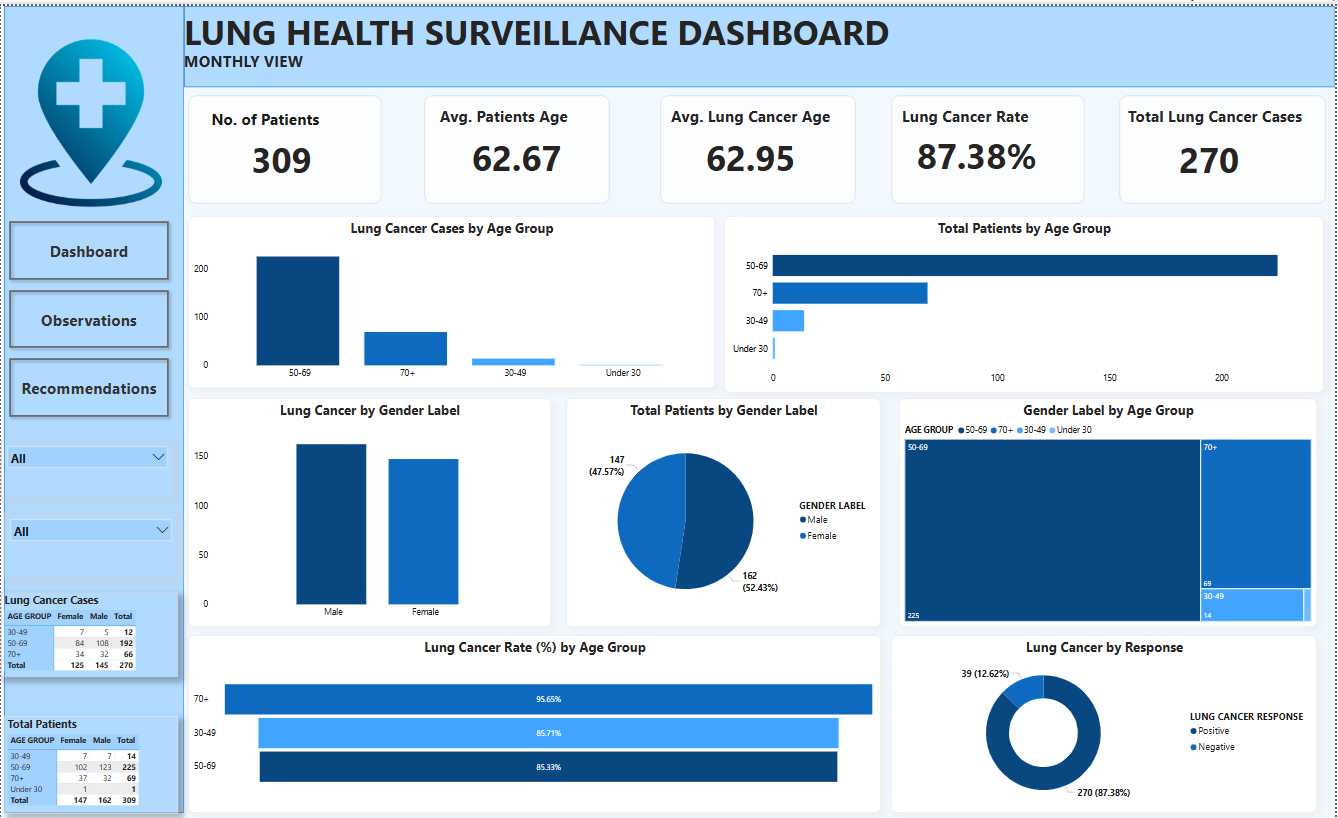

The page's visual inventory and layout, read from the dashboard file:
{"tool":"powerbi","page":{"name":"Main Board","canvas":[2300,1400],"ordinal":0},"visuals":[{"type":"shape","box":[5.2,0,310.3,1391.4],"z":0},{"type":"shape","box":[322.4,153.4,334.5,187.9],"z":1000},{"type":"shape","box":[315,0,1985,140],"z":2000},{"type":"textbox","box":[310.3,0,1237.9,87.9],"z":3000},{"type":"textbox","box":[310.3,70.7,346.6,53.4],"z":4000},{"type":"card","fields":{"Values":["New Measures.Total Patients"]},"box":[386.2,201.7,194.8,119],"z":5000},{"type":"textbox","box":[322.4,165.5,398.3,72.4],"z":6000},{"type":"shape","box":[729.3,153.4,320.7,187.9],"z":7000},{"type":"shape","box":[1136.2,153.4,337.9,187.9],"z":8000},{"type":"card","fields":{"Values":["New Measures.Average Age (Lung Cancer)"]},"box":[1150,184.5,284.5,146.6],"z":9000},{"type":"shape","box":[1927.6,153.4,356.9,187.9],"z":10000},{"type":"shape","box":[1534.5,153.4,334.5,187.9],"z":11000},{"type":"textbox","box":[729.3,165.5,346.6,53.4],"z":12000},{"type":"textbox","box":[1150,165.5,346.6,53.4],"z":13000},{"type":"textbox","box":[1548.3,165.5,346.6,53.4],"z":14000},{"type":"textbox","box":[1937.9,165.5,346.6,53.4],"z":15000},{"type":"card","fields":{"Values":["New Measures.Average Age"]},"box":[736.2,175.9,305.2,165.5],"z":16000},{"type":"card","fields":{"Values":["New Measures.Lung Cancer Rate (%)"]},"box":[1534.5,165.5,294.8,179.3],"z":17000},{"type":"card","fields":{"Values":["New Measures.Total Lung Cancer Cases"]},"box":[1937.9,186.2,289.7,150],"z":18000},{"type":"clusteredColumnChart","title":"Lung Cancer Cases by Age Group","fields":{"Category":["survey lung cancer.AGE GROUP"],"Y":["CountNonNull(survey lung cancer.LUNG CANCER RESPONSE)"]},"box":[322.4,362.1,908.6,296.6],"z":19000},{"type":"donutChart","title":"Lung Cancer by Response","fields":{"Y":["CountNonNull(survey lung cancer.LUNG CANCER RESPONSE)"],"Category":["survey lung cancer.LUNG CANCER RESPONSE"]},"box":[1534.5,1084.5,734.5,306.9],"z":20000},{"type":"clusteredColumnChart","title":"Lung Cancer by Gender Label","fields":{"Category":["survey lung cancer.GENDER LABEL"],"Y":["CountNonNull(survey lung cancer.LUNG CANCER RESPONSE)"]},"box":[322.4,675.9,625.9,394.8],"z":21000},{"type":"treemap","title":"Gender Label by Age Group","fields":{"Group":["survey lung cancer.AGE GROUP"],"Values":["CountNonNull(survey lung cancer.GENDER LABEL)"]},"box":[1548.3,675.9,720.7,394.8],"z":22000},{"type":"funnel","title":"Lung Cancer Rate (%) by Age Group","fields":{"Category":["survey lung cancer.AGE GROUP"],"Y":["New Measures.Lung Cancer Rate (%)"]},"box":[322.4,1084.5,1194.8,306.9],"z":23000},{"type":"clusteredBarChart","title":"Total Patients by Age Group","fields":{"Category":["survey lung cancer.AGE GROUP"],"Y":["New Measures.Total Patients"]},"box":[1246.6,362.1,1034.5,305.2],"z":24000},{"type":"pieChart","title":"Total Patients by Gender Label","fields":{"Y":["New Measures.Total Patients"],"Category":["survey lung cancer.GENDER LABEL"]},"box":[974.1,675.9,543.1,394.8],"z":25000},{"type":"image","box":[5.2,51.7,300,300],"z":26000},{"type":"slicer","fields":{"Values":["survey lung cancer.GENDER LABEL"]},"box":[0,748.3,298.3,100],"z":27000},{"type":"slicer","fields":{"Values":["survey lung cancer.AGE GROUP"]},"box":[5.2,874.1,300,112.1],"z":28000},{"type":"pivotTable","title":"Lung Cancer Cases","fields":{"Columns":["survey lung cancer.GENDER LABEL"],"Values":["New Measures.Total Lung Cancer Cases"],"Rows":["survey lung cancer.AGE GROUP"]},"box":[0,1010.8,305.2,145.6],"z":29000},{"type":"pivotTable","title":"Total Patients","fields":{"Columns":["survey lung cancer.GENDER LABEL"],"Rows":["survey lung cancer.AGE GROUP"],"Values":["New Measures.Total Patients"]},"box":[5.6,1223.6,299.6,168],"z":30000},{"type":"actionButton","box":[5.2,362.1,293.1,119],"z":38000},{"type":"actionButton","box":[5.2,481,293.1,117.2],"z":38001},{"type":"actionButton","box":[5.2,598.3,293.1,119],"z":38002}]}

Visuals, with their boxes in screenshot pixels (x1, y1, x2, y2), scaled from the page's 2300x1400 canvas onto the 1338x818 screenshot:
shape: select_region(3, 0, 184, 813)
shape: select_region(188, 90, 382, 199)
shape: select_region(183, 0, 1337, 82)
textbox: select_region(181, 0, 901, 51)
textbox: select_region(181, 41, 382, 73)
card - New Measures.Total Patients: select_region(225, 118, 338, 187)
textbox: select_region(188, 97, 419, 139)
shape: select_region(424, 90, 611, 199)
shape: select_region(661, 90, 858, 199)
card - New Measures.Average Age (Lung Cancer): select_region(669, 108, 835, 193)
shape: select_region(1121, 90, 1329, 199)
shape: select_region(893, 90, 1087, 199)
textbox: select_region(424, 97, 626, 128)
textbox: select_region(669, 97, 871, 128)
textbox: select_region(901, 97, 1102, 128)
textbox: select_region(1127, 97, 1329, 128)
card - New Measures.Average Age: select_region(428, 103, 606, 199)
card - New Measures.Lung Cancer Rate (%): select_region(893, 97, 1064, 201)
card - New Measures.Total Lung Cancer Cases: select_region(1127, 109, 1296, 196)
"Lung Cancer Cases by Age Group" clusteredColumnChart: select_region(188, 212, 716, 385)
"Lung Cancer by Response" donutChart: select_region(893, 634, 1320, 813)
"Lung Cancer by Gender Label" clusteredColumnChart: select_region(188, 395, 552, 626)
"Gender Label by Age Group" treemap: select_region(901, 395, 1320, 626)
"Lung Cancer Rate (%) by Age Group" funnel: select_region(188, 634, 883, 813)
"Total Patients by Age Group" clusteredBarChart: select_region(725, 212, 1327, 390)
"Total Patients by Gender Label" pieChart: select_region(567, 395, 883, 626)
image: select_region(3, 30, 178, 205)
slicer - survey lung cancer.GENDER LABEL: select_region(0, 437, 174, 496)
slicer - survey lung cancer.AGE GROUP: select_region(3, 511, 178, 576)
"Lung Cancer Cases" pivotTable: select_region(0, 591, 178, 676)
"Total Patients" pivotTable: select_region(3, 715, 178, 813)
actionButton: select_region(3, 212, 174, 281)
actionButton: select_region(3, 281, 174, 350)
actionButton: select_region(3, 350, 174, 419)
